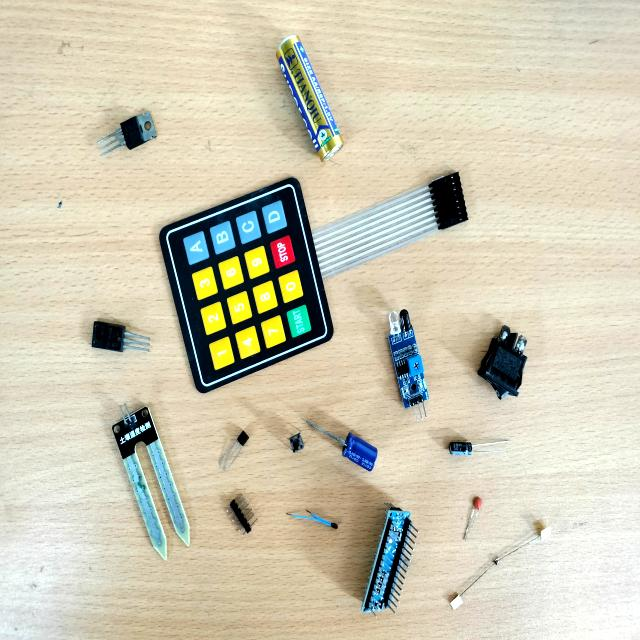capacitor: (342, 434, 377, 470), (449, 442, 472, 453), (472, 496, 482, 509)
